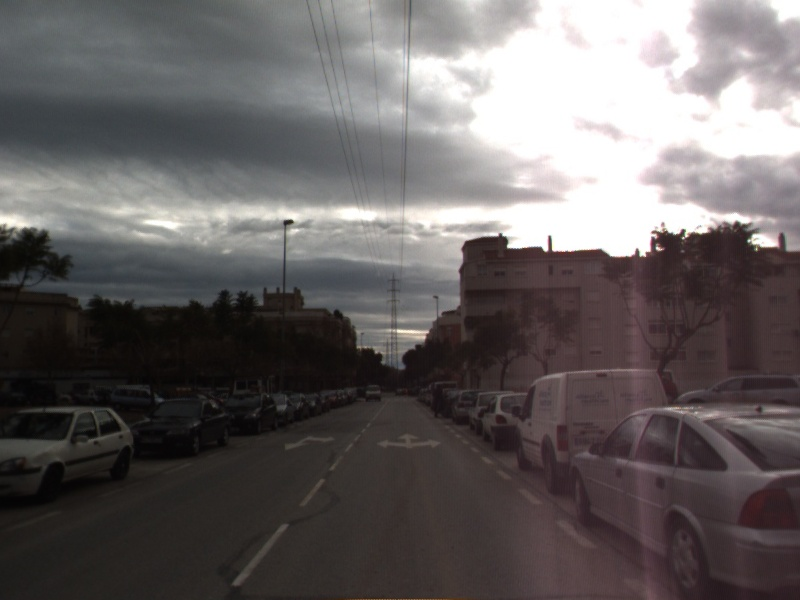STRAIGHT_LEFT_RIGHT: (375, 431, 444, 451)
